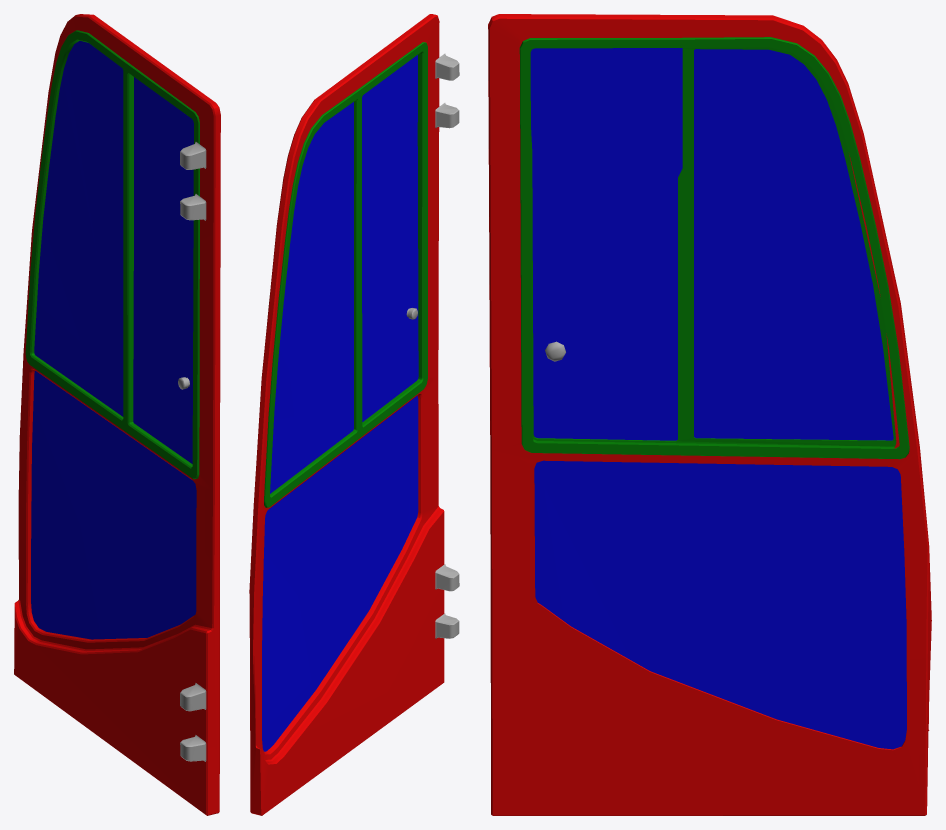
File: ExcavatorMachine_CabDoor_01a_snaps005.fbx
3 views of the same model, side by side, from view 1: azimuth 30°, elevation 25°; view 2: azimuth 150°, elevation 25°; view 3: azimuth 270°, elevation 25° (orthographic). The views are drawn at different scales.
Parts seen in each view (by area): view 1: ExcavatorMachine_CabDoor_01a_snaps005; view 2: ExcavatorMachine_CabDoor_01a_snaps005; view 3: ExcavatorMachine_CabDoor_01a_snaps005.
Part boxes in pixels (x1,y1,x2,y2): ExcavatorMachine_CabDoor_01a_snaps005: (14, 14, 220, 815); ExcavatorMachine_CabDoor_01a_snaps005: (249, 14, 459, 815); ExcavatorMachine_CabDoor_01a_snaps005: (488, 14, 931, 815).
Size of the model in its own units: 9.67 by 192 by 96.71.
